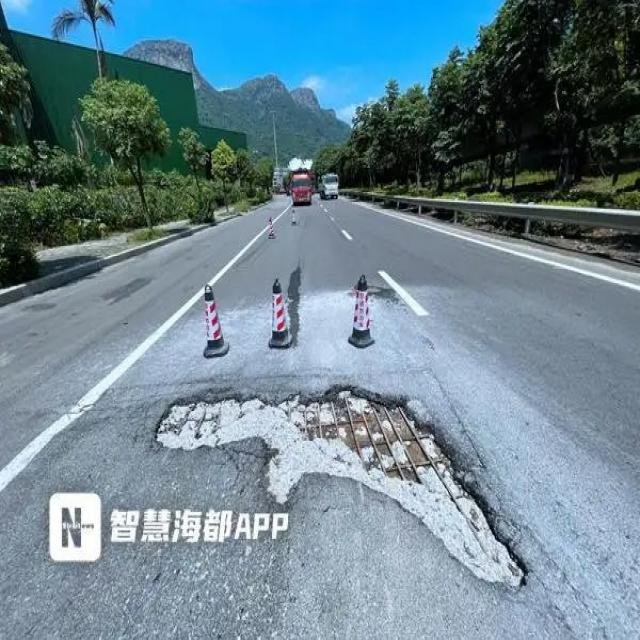Pothole: (153, 386, 524, 590)
